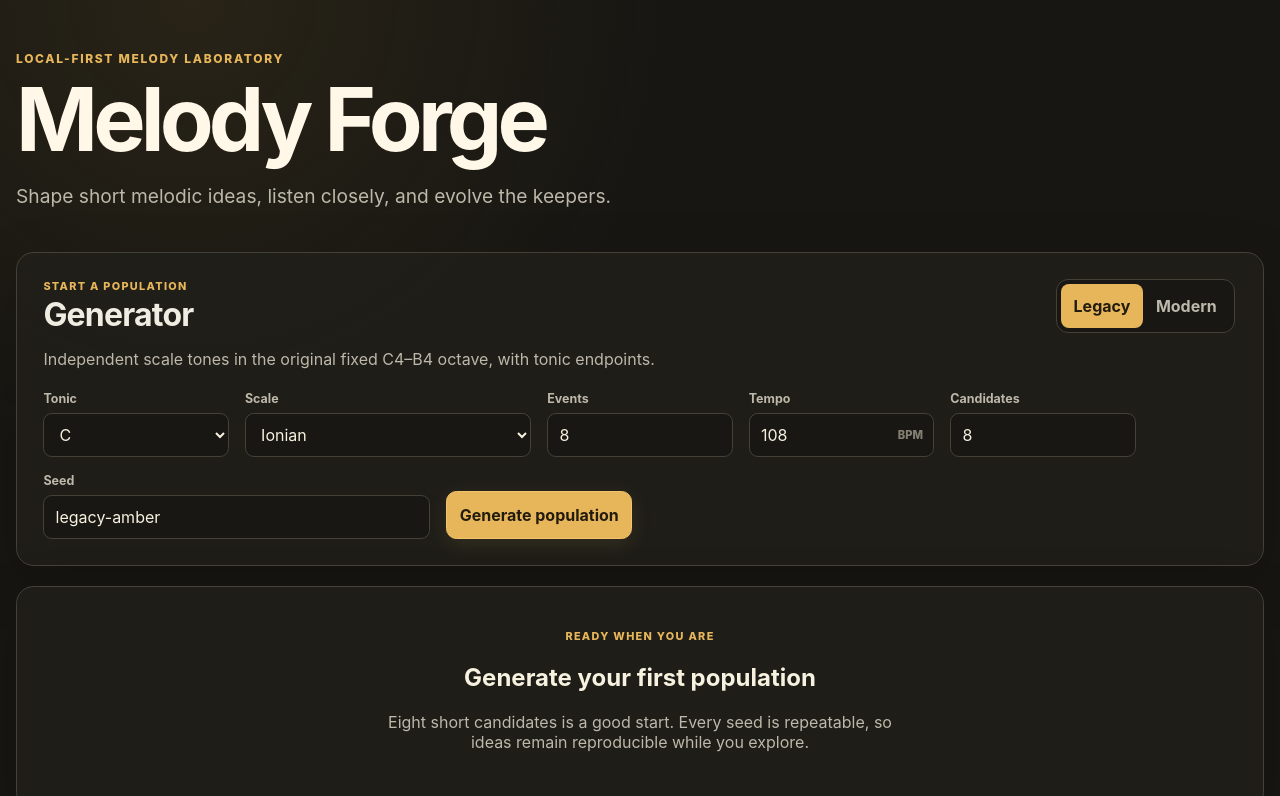
essential browser workspace › limits parent selection to two with visible feedback
The image size is (1280, 796).
Click the button "Generate population" at (539, 515), box 446,491 -> 632,539
(page scrolled)
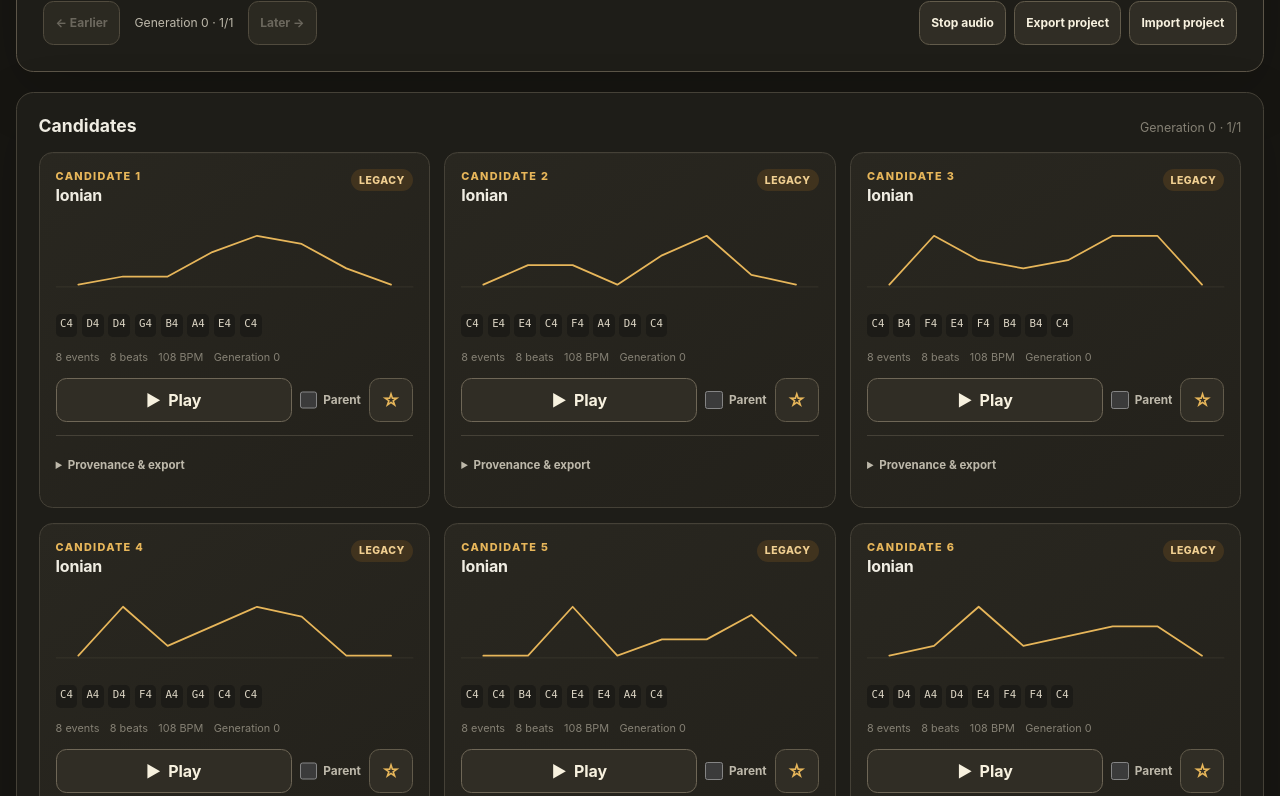
Click the 1st checkbox labelled "Parent" at (308, 400), box 300,392 -> 317,409
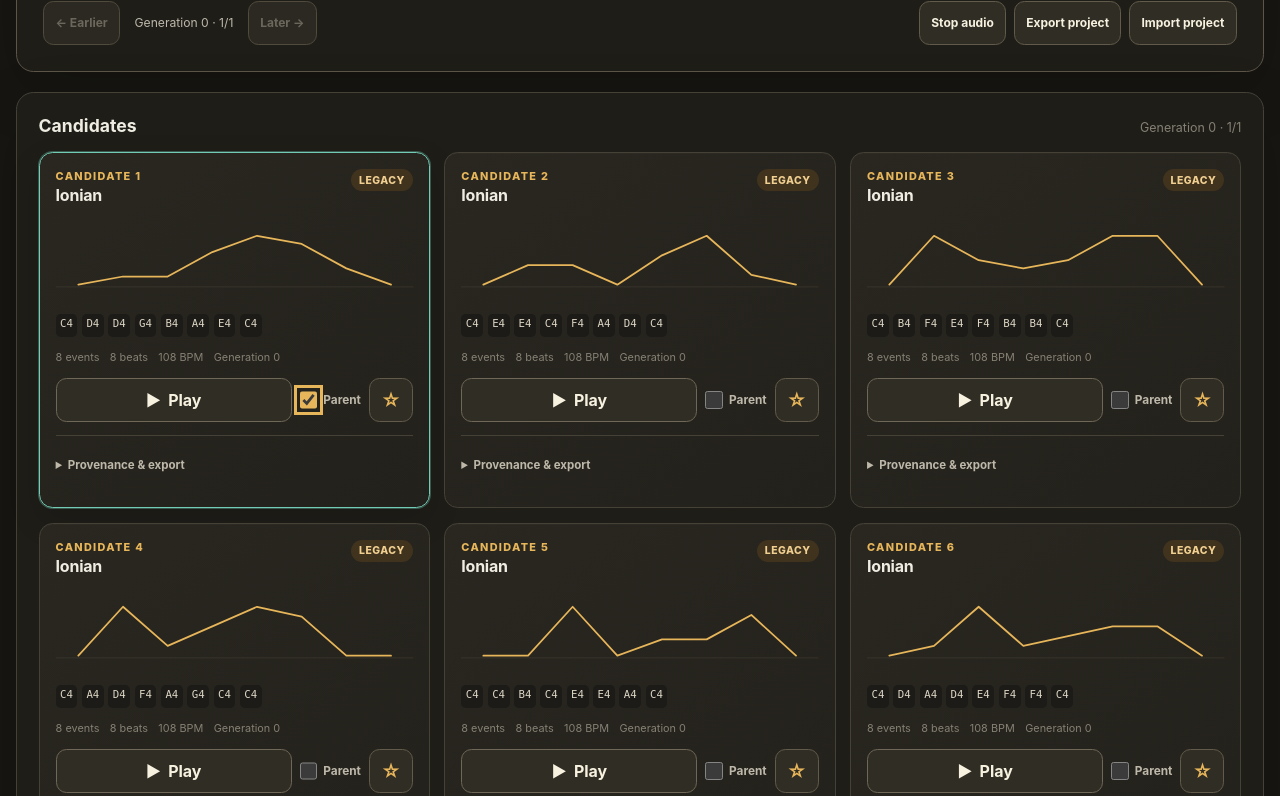
Click the 2nd checkbox labelled "Parent" at (714, 400), box 705,392 -> 723,409
(page scrolled)
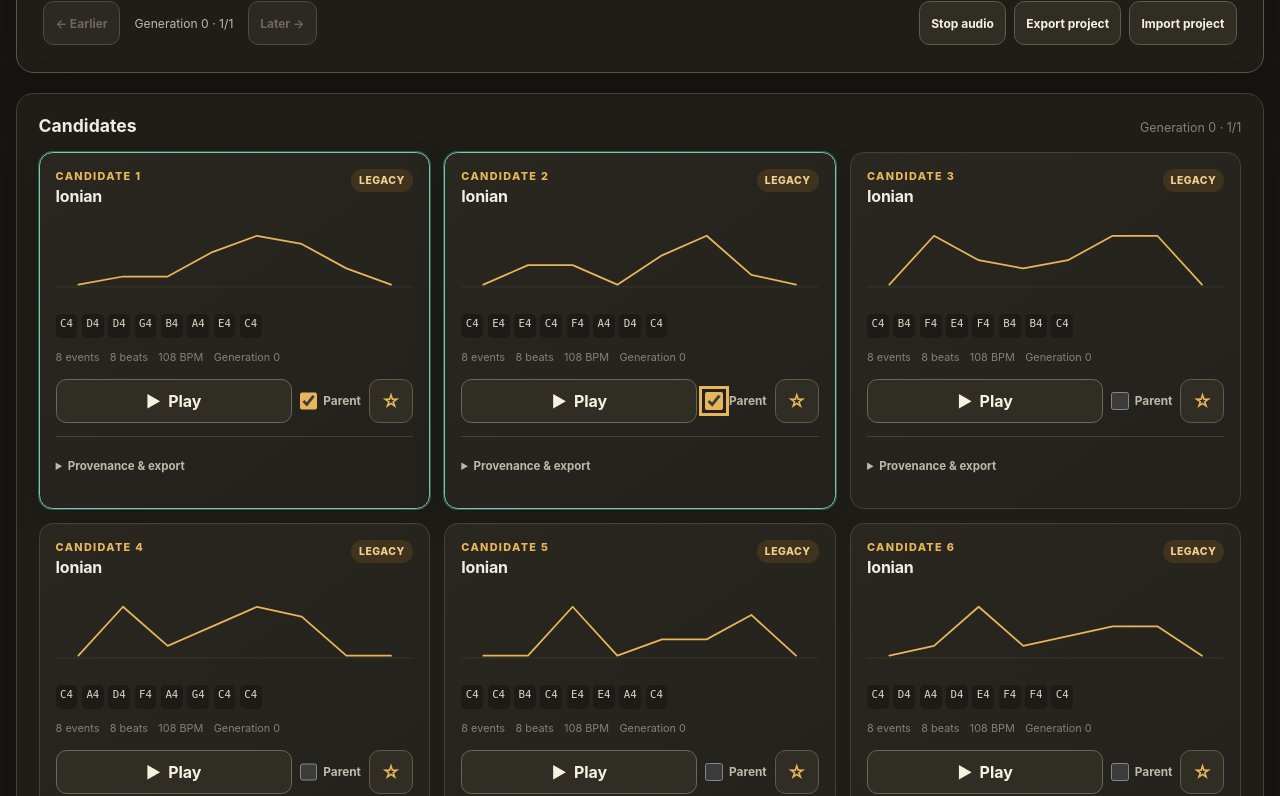
Click the 3rd checkbox labelled "Parent" at (1120, 401), box 1111,392 -> 1129,410
(page scrolled)
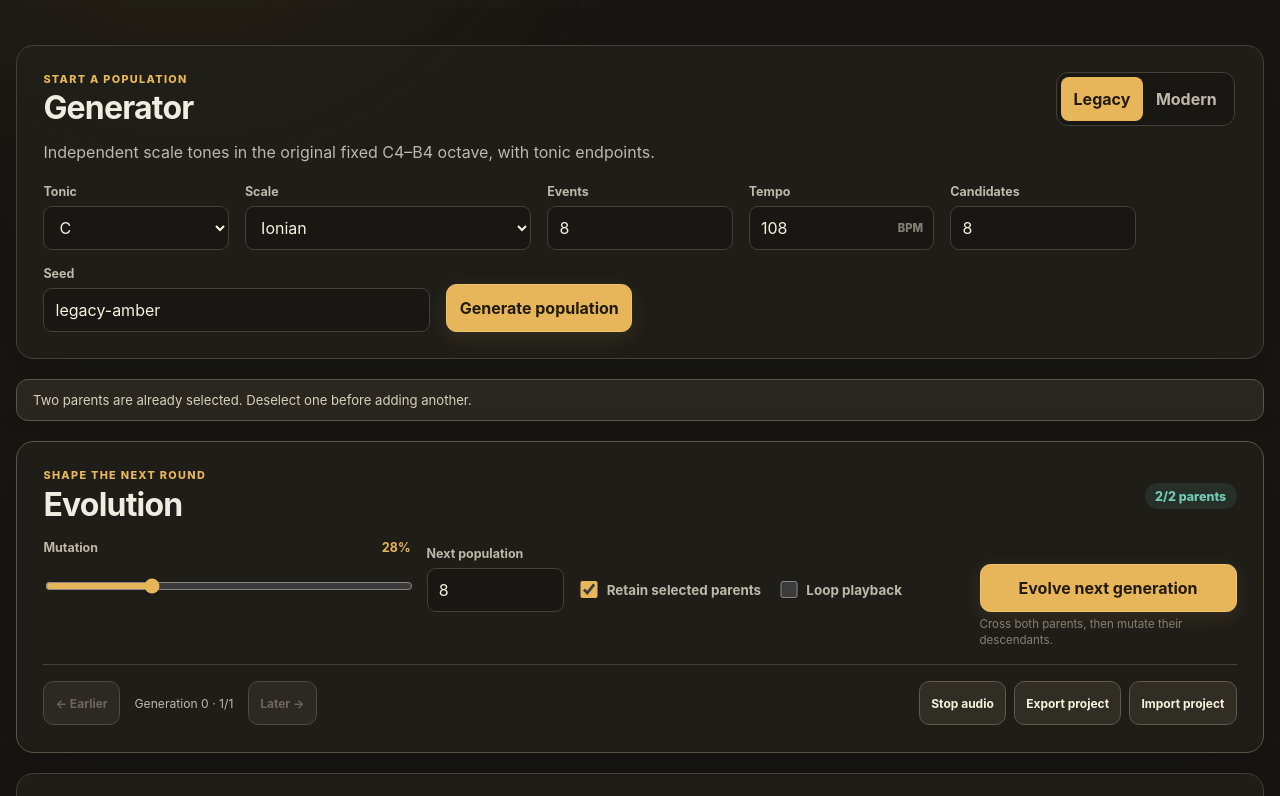
Expected: the text "Two parents are already selected. Deselect one before adding another." is shown, 16,379 -> 1264,421
